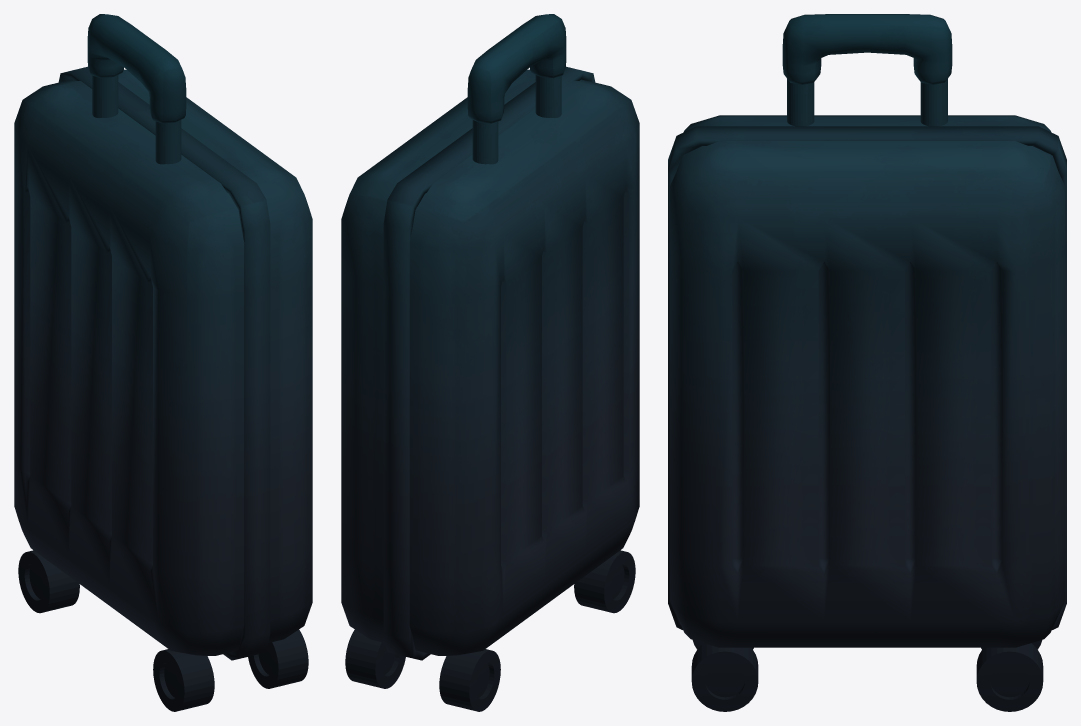
File: Suitcases.fbx
3 renders of one model, left to right at view 1: azimuth 30°, elevation 25°; view 2: azimuth 150°, elevation 25°; view 3: azimuth 270°, elevation 25°, orthographic. The views are drawn at different scales.
Visible parts, largest first — view 1: Cylinder.002; view 2: Cylinder.002; view 3: Cylinder.002.
Boxes of the visible parts, x1=… form: Cylinder.002: x1=14, y1=14, x2=312, y2=711; Cylinder.002: x1=341, y1=14, x2=639, y2=711; Cylinder.002: x1=668, y1=14, x2=1066, y2=711.
Bounding box in the file's own units: 92.07 × 364 × 202.
Materials: 1 (1 with a texture image).
